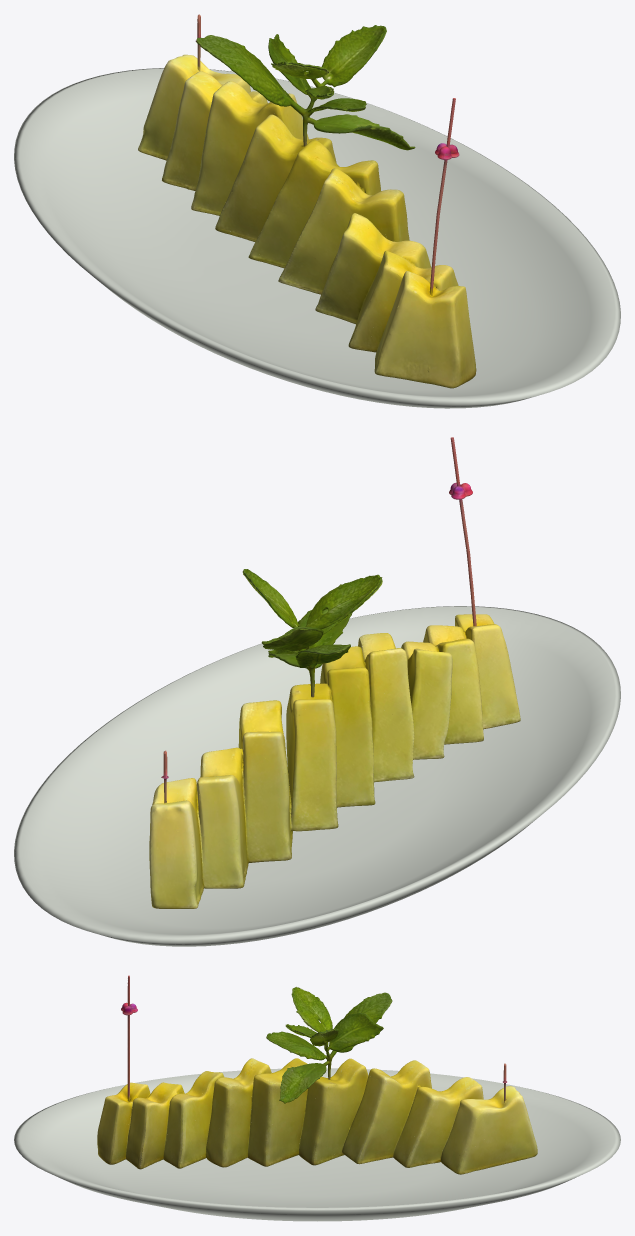
The model's file is qovun2.glb.
3 views of the same model, one above another, from view 1: azimuth 30°, elevation 25°; view 2: azimuth 150°, elevation 25°; view 3: azimuth 270°, elevation 25° (orthographic). The views are drawn at different scales.
Visible parts, largest first — view 1: tarelka, qovun; view 2: tarelka, qovun; view 3: qovun, tarelka.
Part boxes in pixels (bbox=[...]): tarelka: bbox=[14, 68, 620, 408]; qovun: bbox=[138, 14, 476, 388]; tarelka: bbox=[14, 606, 620, 946]; qovun: bbox=[149, 437, 520, 908]; qovun: bbox=[97, 975, 537, 1174]; tarelka: bbox=[14, 1068, 620, 1221].
Size of the model in its own units: 0.75 by 0.4932 by 1.35.
Materials: 2 (1 with a texture image).
